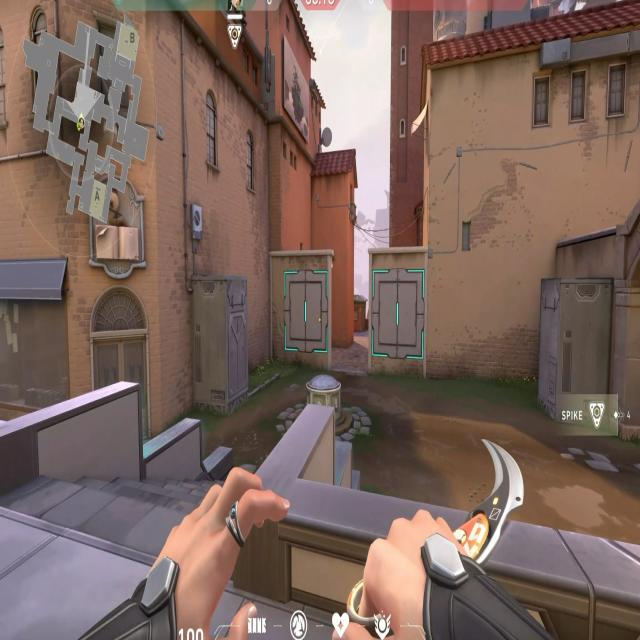Mid_Wall: (270, 247, 335, 365), (370, 246, 428, 371)
